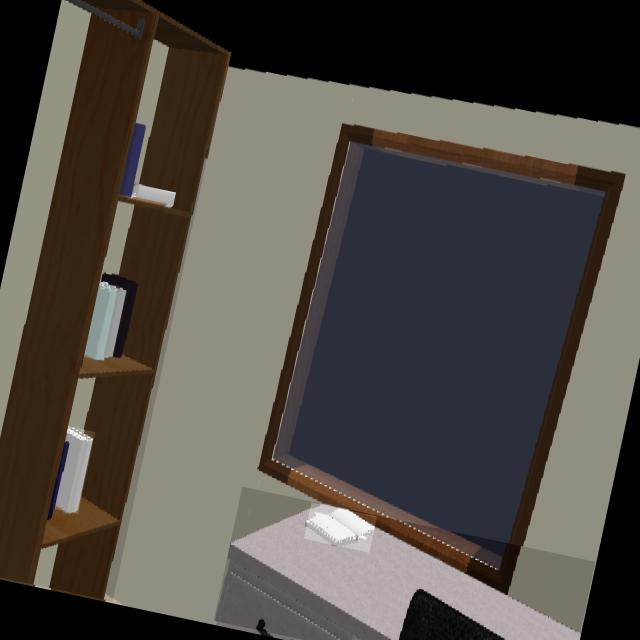book: (55, 427, 92, 513), (103, 273, 137, 357), (307, 509, 374, 547), (85, 283, 118, 360), (105, 289, 126, 357), (136, 184, 175, 206)
bookshelf: (0, 0, 227, 599)
table: (229, 506, 578, 640)
